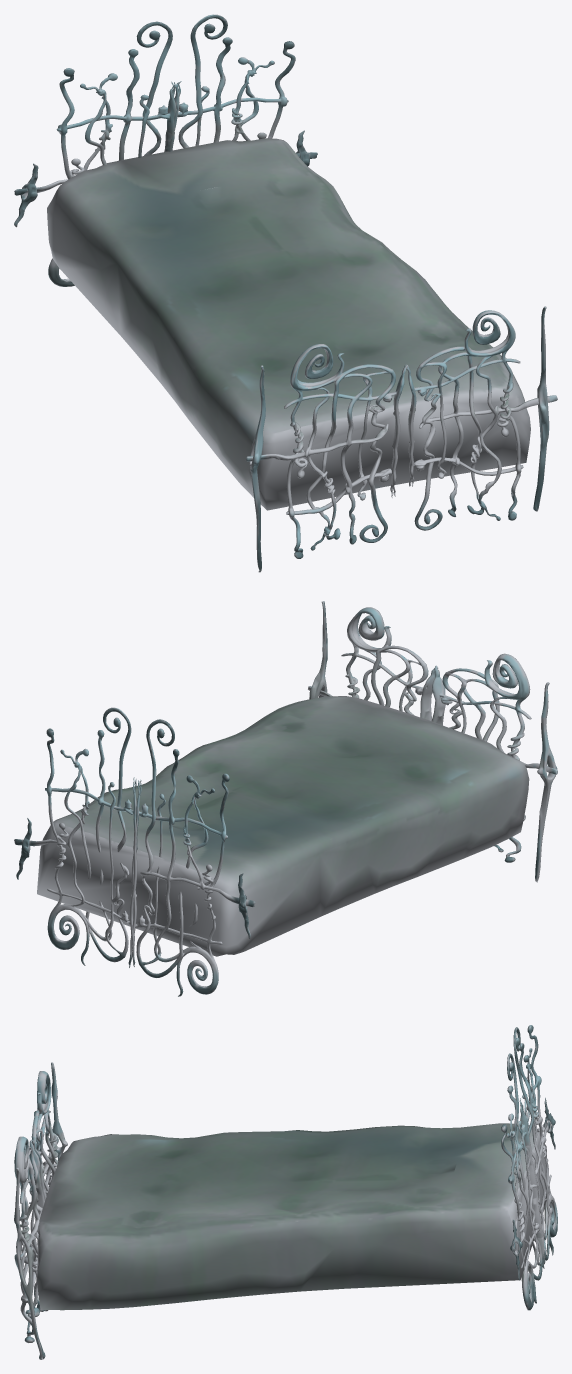
Rendered from Bed.fbx.
The picture shows the model from 3 angles, top to bottom: view 1: azimuth 30°, elevation 25°; view 2: azimuth 150°, elevation 25°; view 3: azimuth 270°, elevation 25°; orthographic projection. The views are drawn at different scales.
Visible parts, largest first — view 1: Bed 41; view 2: Bed 41; view 3: Bed 41.
Part boxes in pixels (left/top/right/bottom): Bed 41: left=14, top=14, right=557, bottom=572; Bed 41: left=14, top=601, right=557, bottom=996; Bed 41: left=14, top=1025, right=557, bottom=1359.
Bounding box in the file's own units: 13.88 × 13.07 × 22.39.
1 material, 1 textured.
